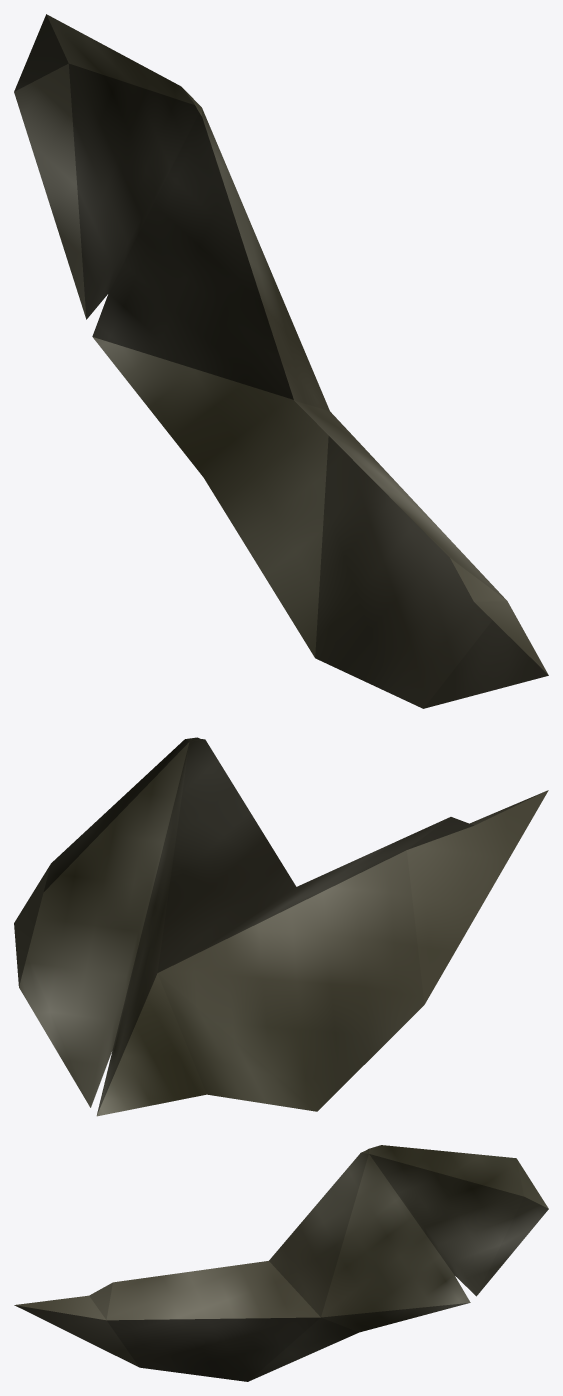
The picture shows the model from 3 angles, top to bottom: view 1: azimuth 30°, elevation 25°; view 2: azimuth 150°, elevation 25°; view 3: azimuth 270°, elevation 25°; orthographic projection. The views are drawn at different scales.
Size of the model in its own units: 0.00646 by 0.0332 by 0.0679.
1 material, 1 textured.
